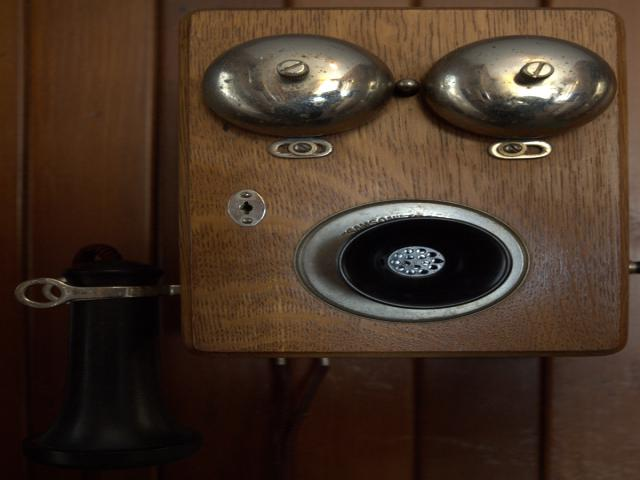Door-handle: (288, 197, 534, 323)
